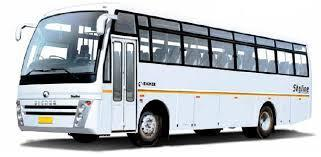Bus: (15, 5, 312, 147)
